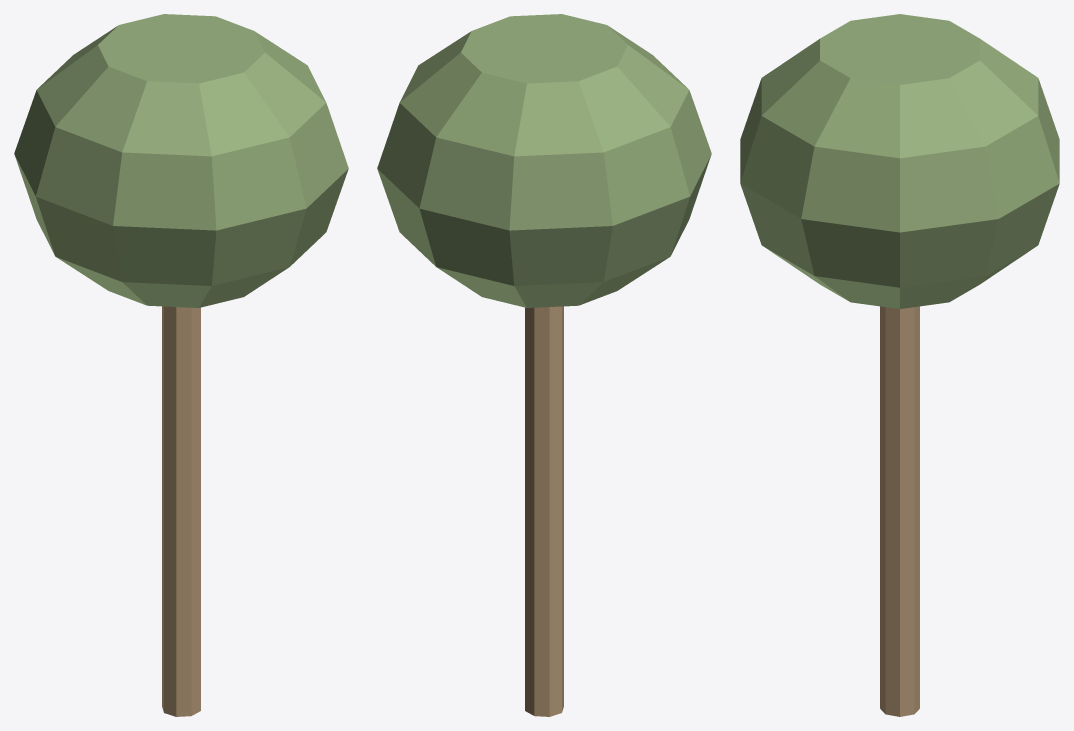
The model's file is oak-arch-4.glb.
3 views of the same model, side by side, from view 1: azimuth 30°, elevation 25°; view 2: azimuth 150°, elevation 25°; view 3: azimuth 270°, elevation 25° (orthographic).
Parts seen in each view (by area): view 1: living roof, timber; view 2: living roof, timber; view 3: living roof, timber.
Part boxes in pixels (box(x1,y1,x2,y2)): living roof: box(14, 14, 348, 307); timber: box(162, 306, 200, 716); living roof: box(377, 14, 711, 307); timber: box(525, 306, 563, 716); living roof: box(740, 14, 1059, 308); timber: box(880, 306, 919, 716).
Size of the model in its own units: 2.93 by 6.52 by 2.79.
